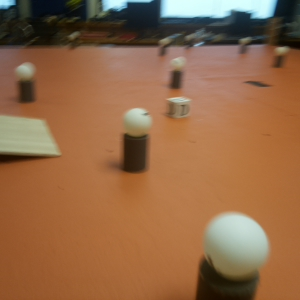obstacle: (198, 207, 269, 300), (120, 107, 149, 171), (15, 64, 36, 103), (170, 58, 183, 87), (68, 31, 78, 51), (240, 38, 247, 55)
slope: (1, 112, 51, 169)
